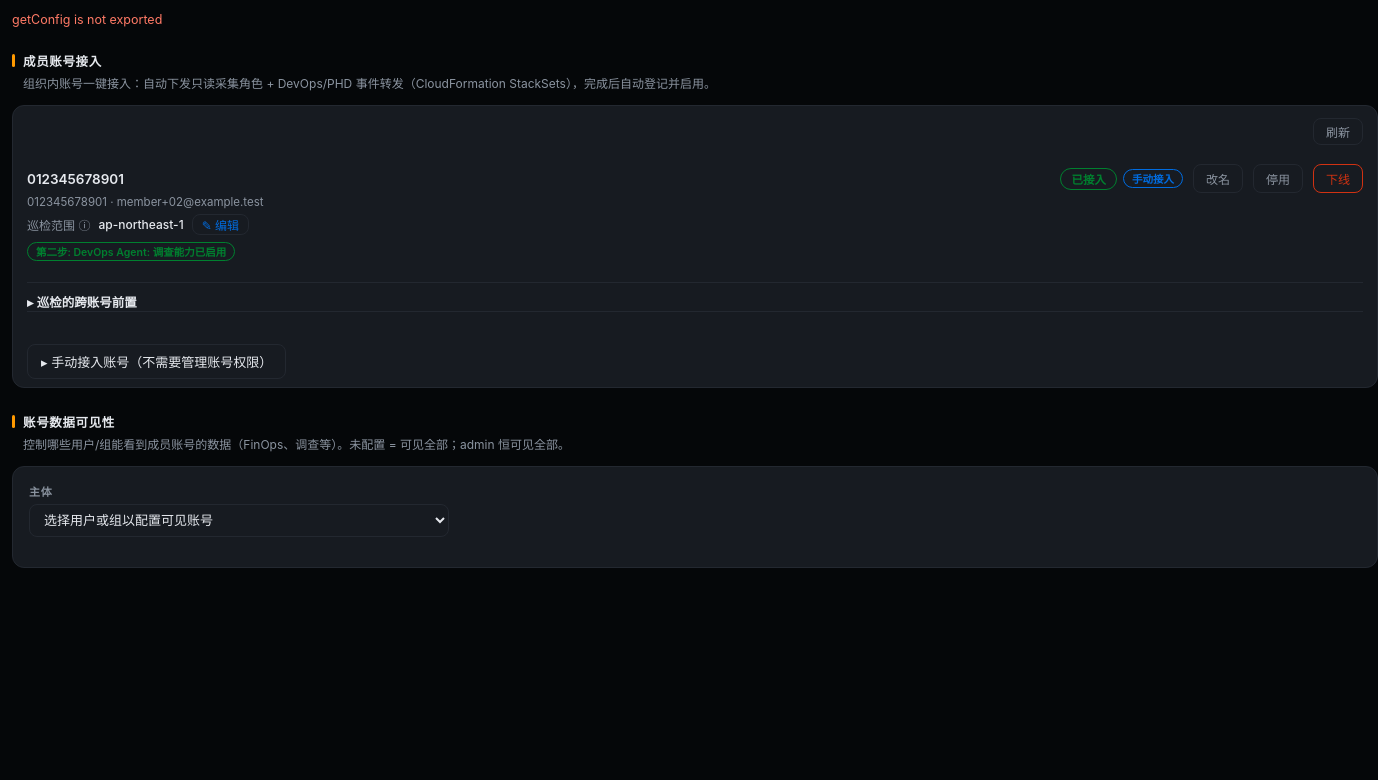
下线后的「需手动删栈」提示（2026-09-06 交叉 review） › ★★★ stackRetained 的栈名提示在 reload 之后必须仍然可见
Click the button "下线" at (1338, 178), box [1313,164,1363,193]
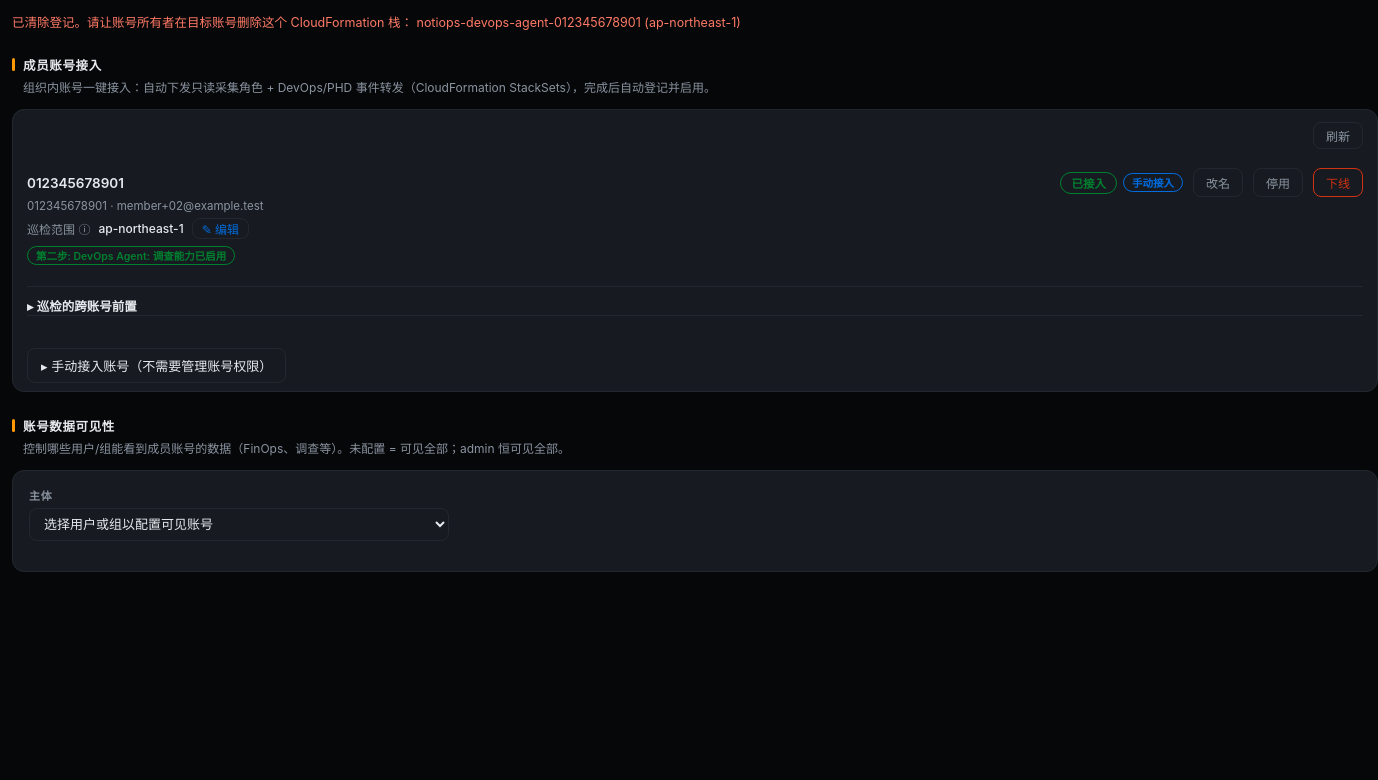
Expected: the text "notiops-devops-agent-012345678901" shows "ap-northeast-1", [12,15,741,30]
